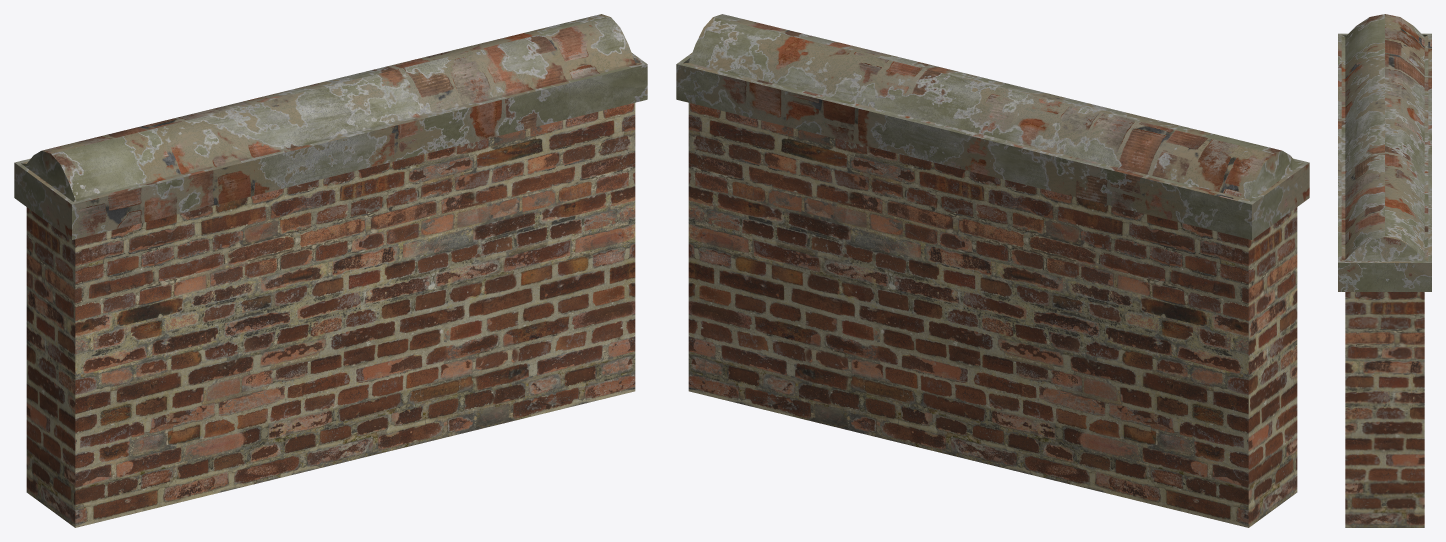
The model's file is Victorian Wall 2.fbx.
3 views of the same model, side by side, from view 1: azimuth 30°, elevation 25°; view 2: azimuth 150°, elevation 25°; view 3: azimuth 270°, elevation 25° (orthographic). The views are drawn at different scales.
Visible parts, largest first — view 1: Cube.002; view 2: Cube.002; view 3: Cube.002.
Part boxes in pixels (box(x1,y1,x2,y2)): Cube.002: box(14, 14, 647, 527); Cube.002: box(676, 14, 1309, 527); Cube.002: box(1338, 14, 1431, 527).
Bounding box in the file's own units: 411 × 243 × 71.14.
